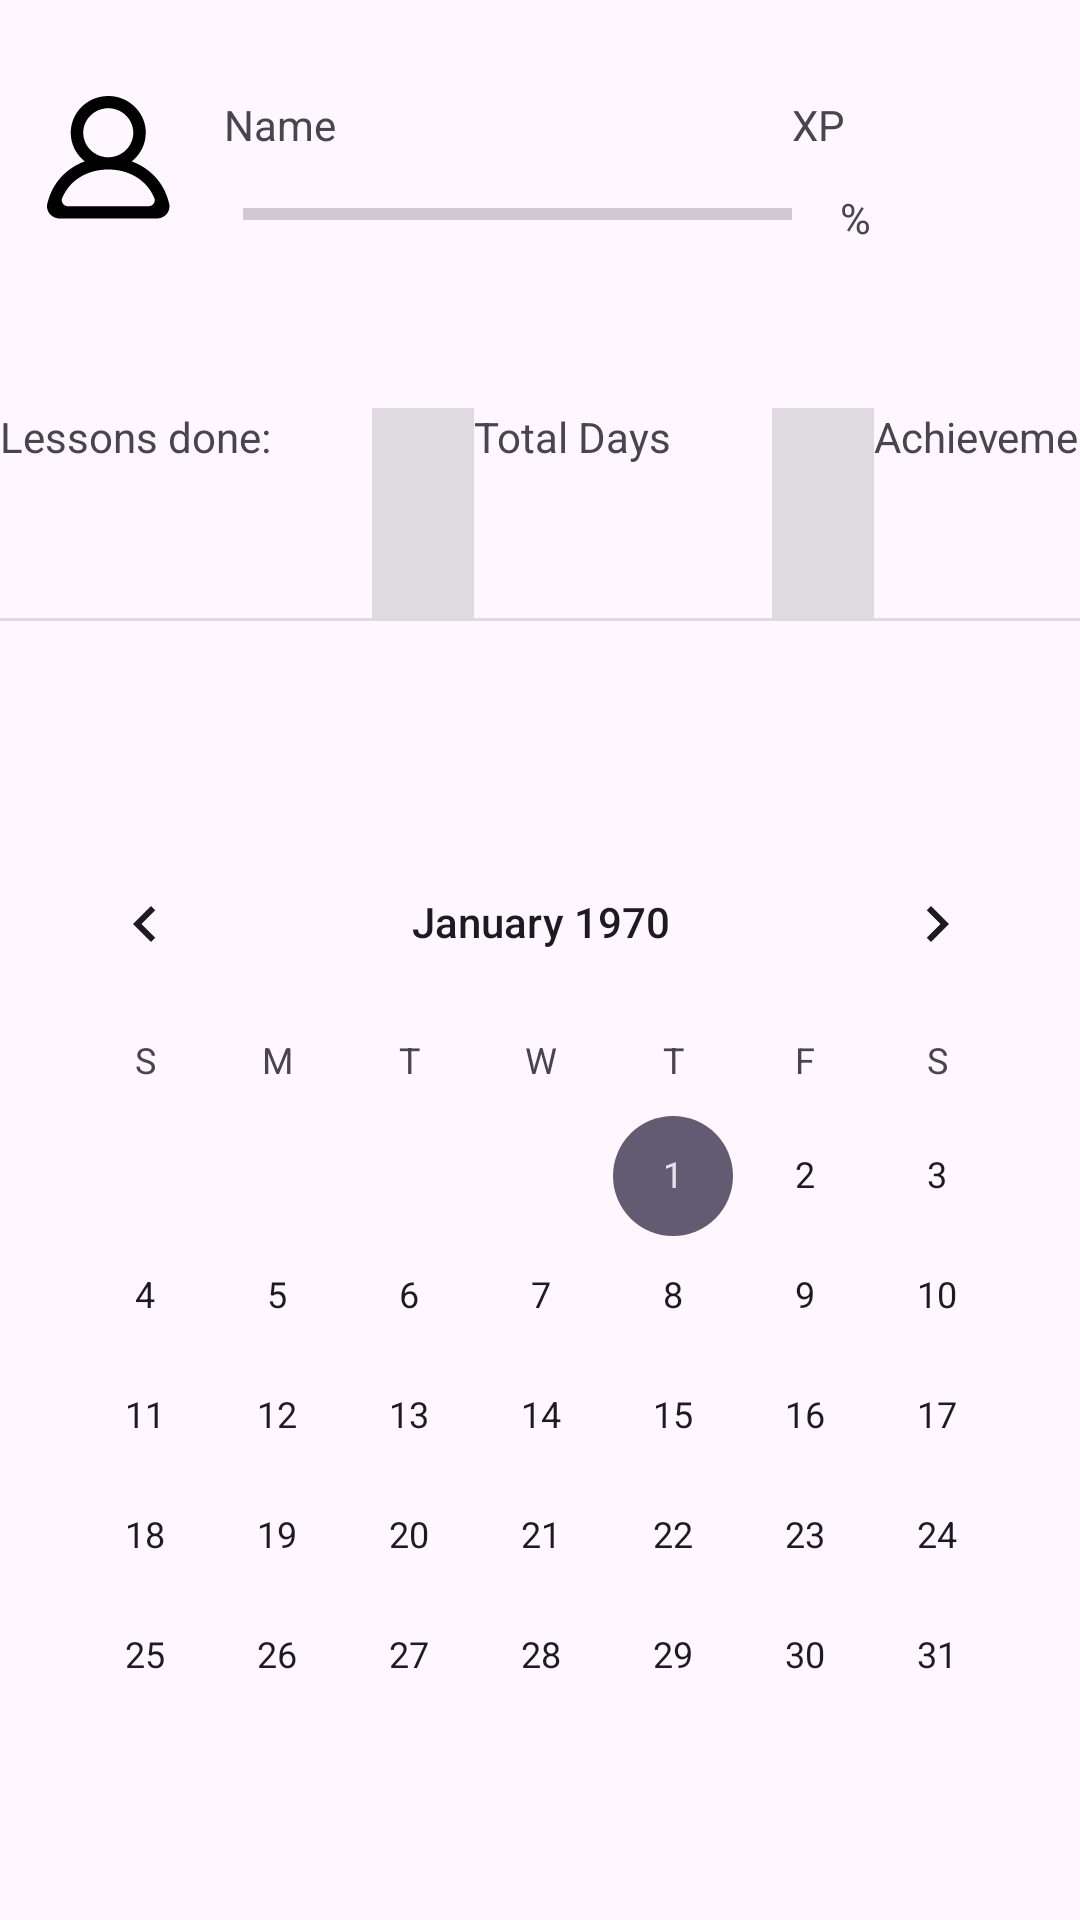

Icons on this 1080w x 1920h Android screen, each with its box as (x1, y1, x2, y2):
profile: (47, 96, 170, 219)
